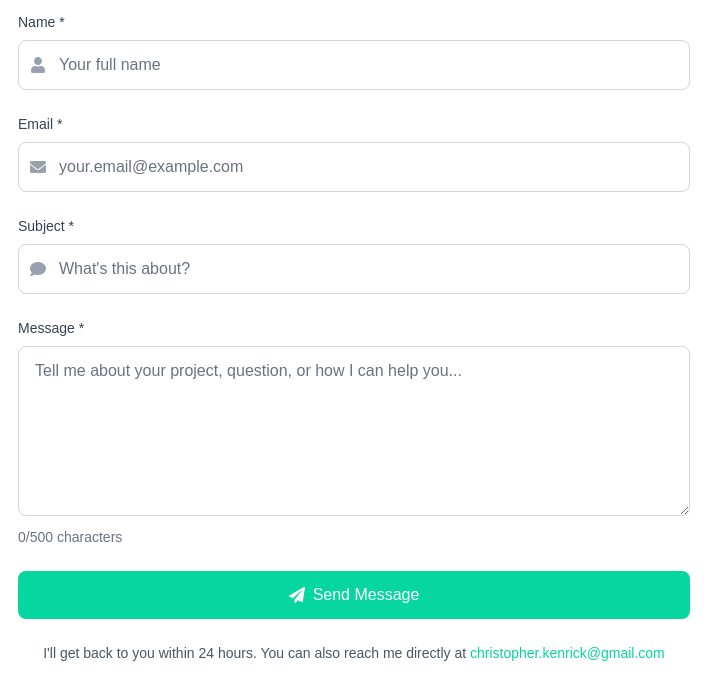
Test: ContactForm Component › shows character count for message field
Expected: the text "0/500 characters" is shown, [18,529,122,545]
# Type some text
Type "Hello world" into the text box labelled "Message *" at (354, 431), box [18,346,690,516]
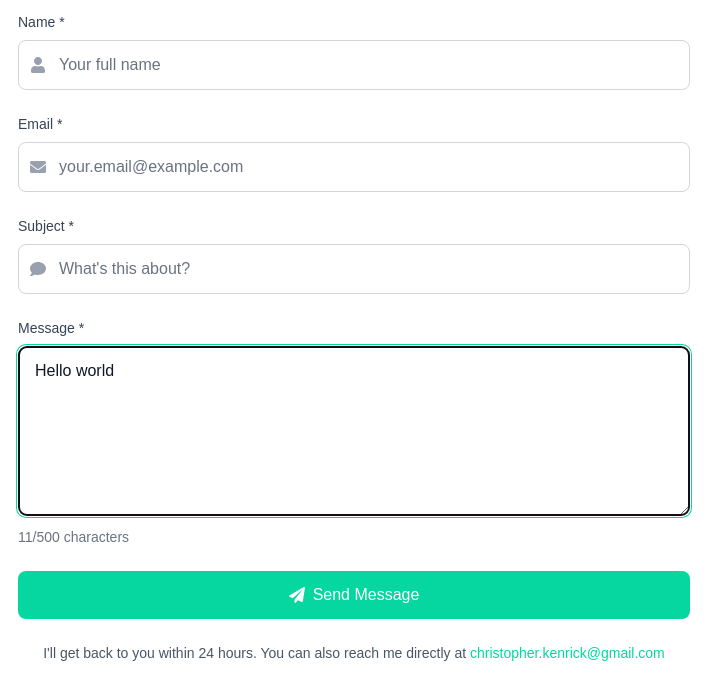
Expected: the text "11/500 characters" is shown, [18,529,129,545]
